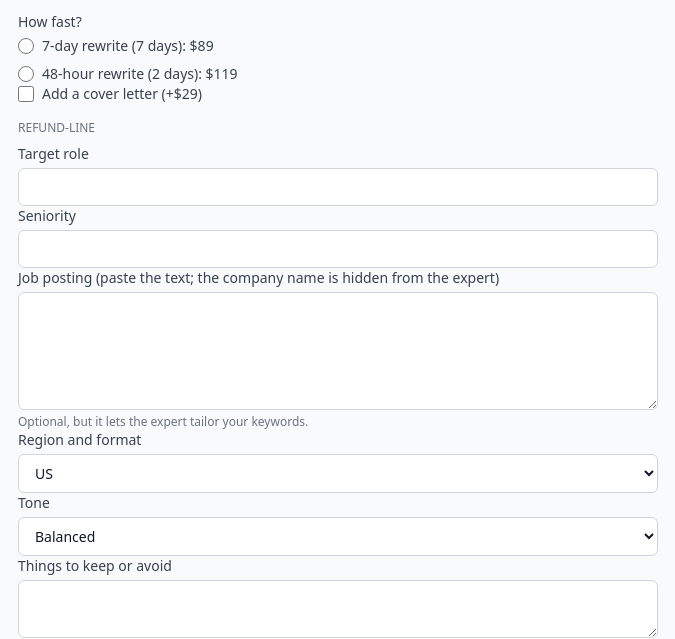
Test: HumanOrder › a resume with no structured form is read first, then the order is retried
Expected: the text "7-day rewrite (7 days): $89" is shown, [18,36,214,55]
Click the radio button labelled "7-day rewrite (7 days): $89" at [26, 46], box [18,38,34,54]
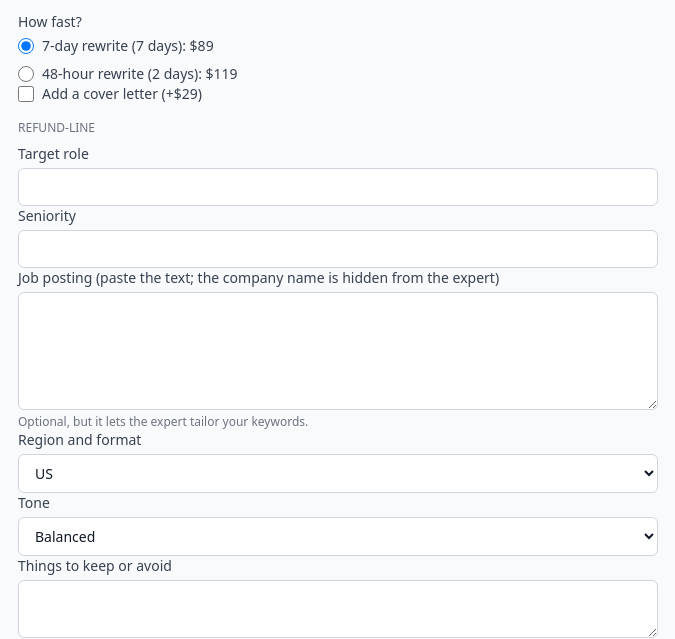
Type "PM" into the field labelled "Target role" at [338, 187], box [18,168,658,206]
(page scrolled)
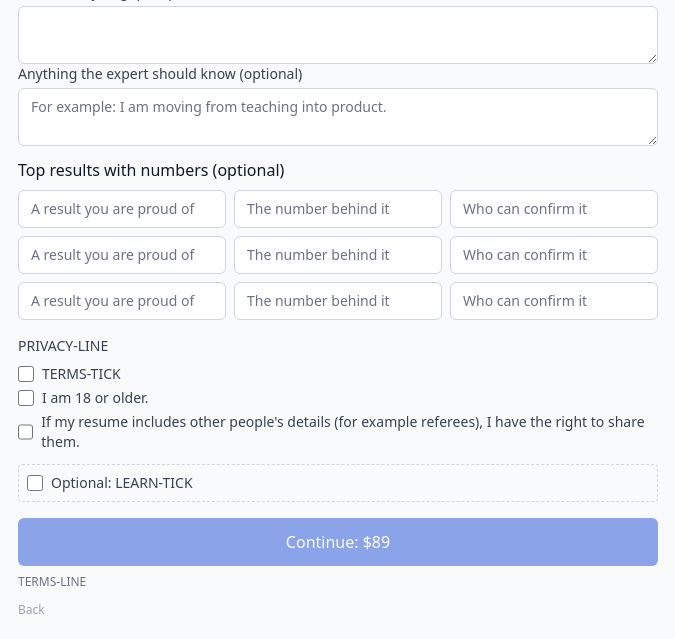
Click the checkbox labelled "TERMS-TICK" at [26, 374], box [18,366,34,382]
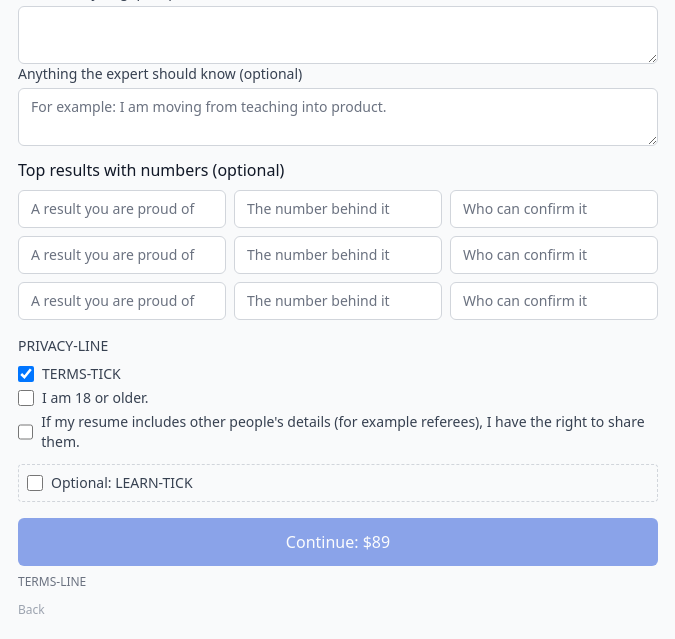
Click the checkbox labelled "I am 18 or older." at [26, 398], box [18,390,34,406]
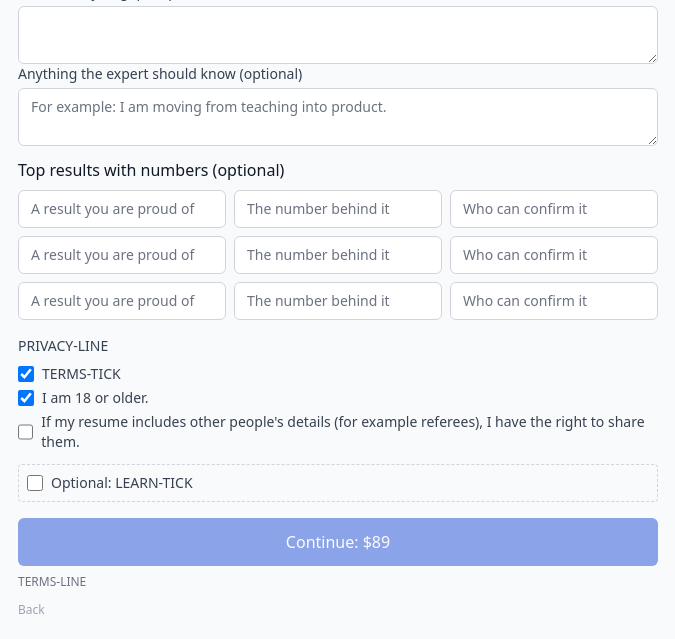
Click the checkbox named "If my resume includes other people's details (for example referees), I have the right to share them." at [26, 432], box [18,424,33,440]
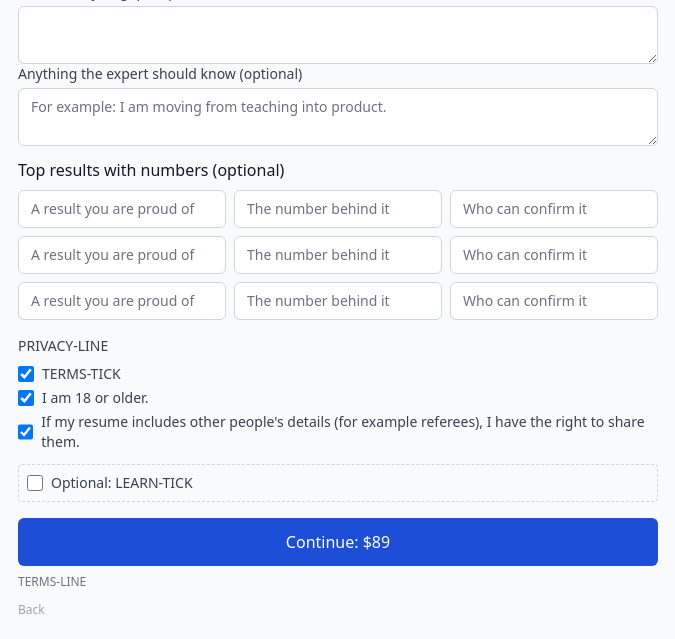
Click the button "Continue: $89" at [338, 542], box [18,518,658,566]
(page scrolled)
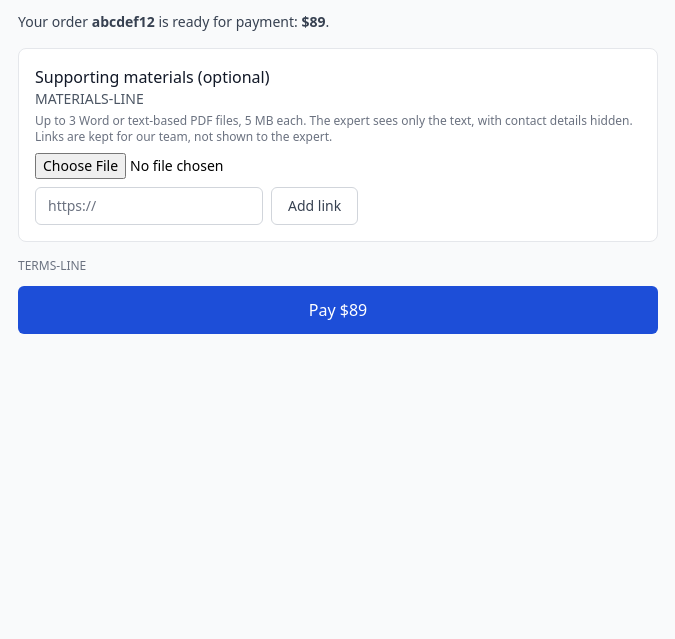
Now the text "Your order abcdef12 is ready for payment: $89." is shown, box [18,12,329,31]
